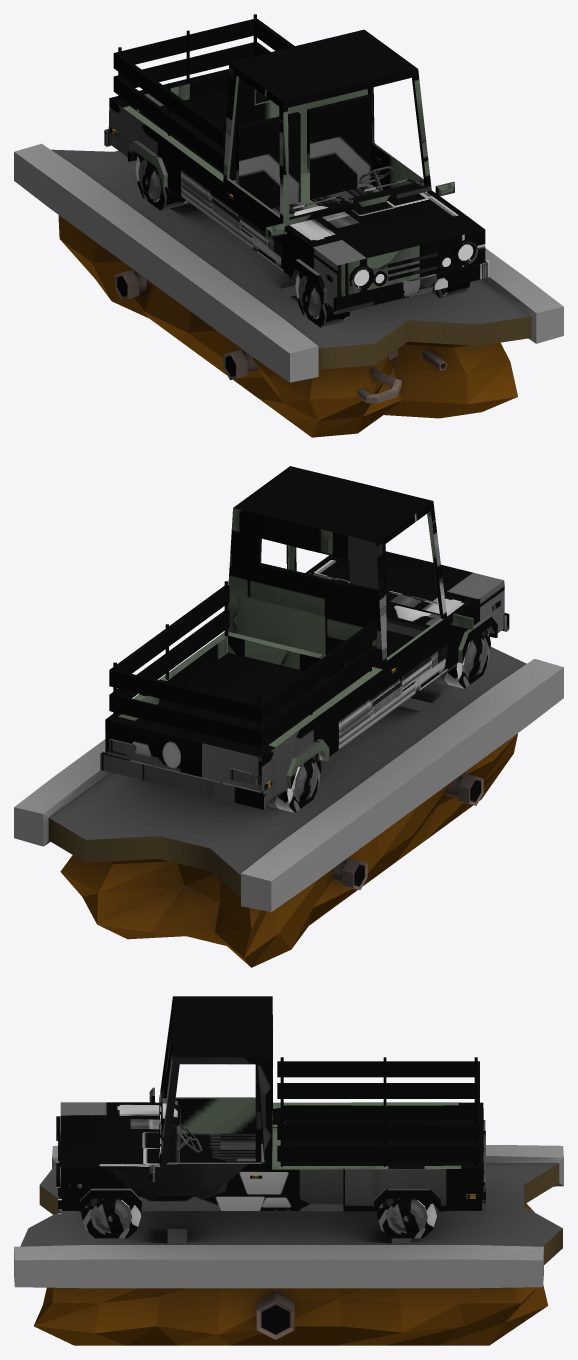
3 views of the same model, one above another, from view 1: azimuth 30°, elevation 25°; view 2: azimuth 150°, elevation 25°; view 3: azimuth 270°, elevation 25° (orthographic). The views are drawn at different scales.
Visible parts, largest first — view 1: Box023, platform; view 2: Box023, platform; view 3: platform, Box023.
Part boxes in pixels (box(x1,y1,x2,y2)): Box023: box(104, 14, 489, 327); platform: box(14, 143, 563, 437); Box023: box(100, 466, 509, 812); platform: box(14, 647, 563, 967); platform: box(14, 1145, 563, 1345); Box023: box(56, 996, 485, 1238).
Size of the model in its own units: 74.41 by 85.64 by 150.
